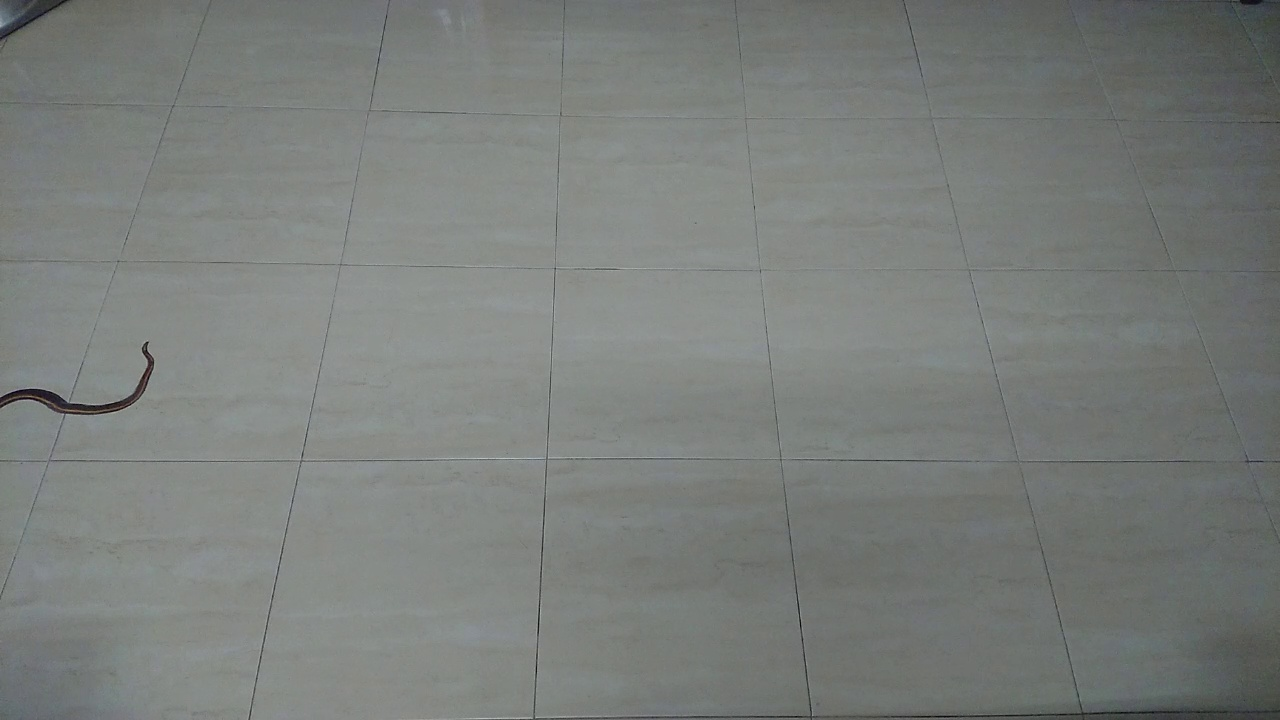snake: (1, 331, 172, 429)
